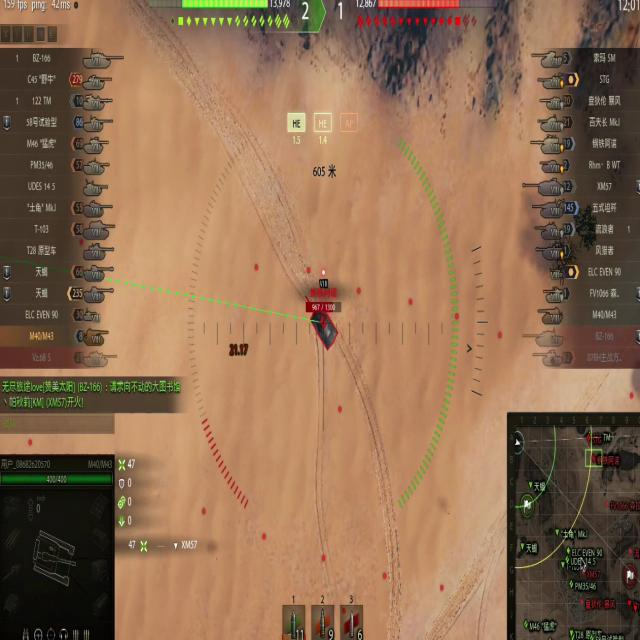tank: (303, 296, 349, 350)
